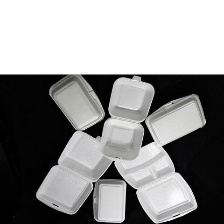foam_box: (30, 127, 116, 217), (110, 139, 200, 224), (96, 74, 158, 164), (142, 90, 208, 149), (44, 74, 107, 135), (89, 176, 128, 224)
